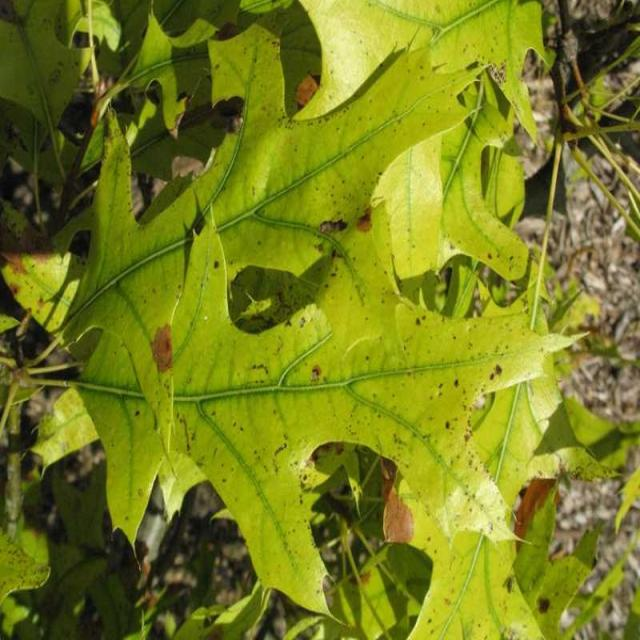Chlorosis: (19, 0, 545, 639)
